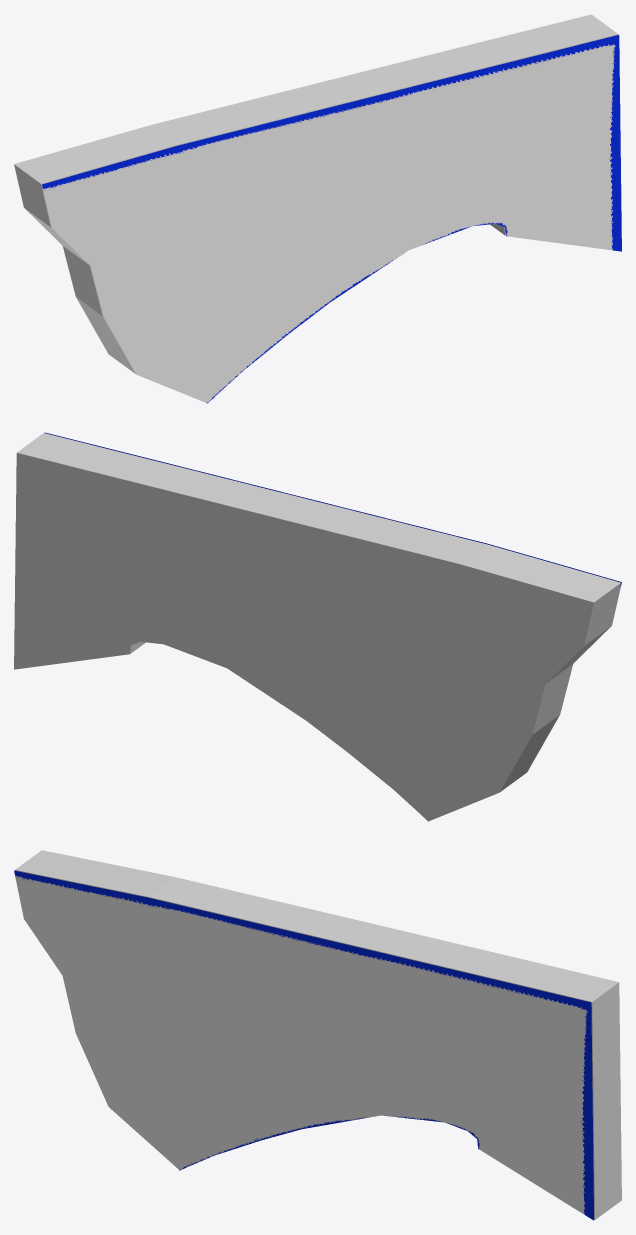
3 views of the same model, one above another, from view 1: azimuth 30°, elevation 25°; view 2: azimuth 150°, elevation 25°; view 3: azimuth 330°, elevation 25° (orthographic).
Visible parts, largest first — view 1: Out_4_1, Out_4_0; view 2: Out_4_0, Out_4_1; view 3: Out_4_1, Out_4_0.
Part boxes in pixels (x1,y1,x2,y2): Out_4_1: (42,35,621,403); Out_4_0: (14,14,618,373); Out_4_0: (14,433,620,821); Out_4_1: (44,432,621,772); Out_4_1: (14,870,593,1220); Out_4_0: (15,850,621,1219).
Bounding box in the file's own units: 6.19 × 2.74 × 0.515.
2 materials, 1 textured.
